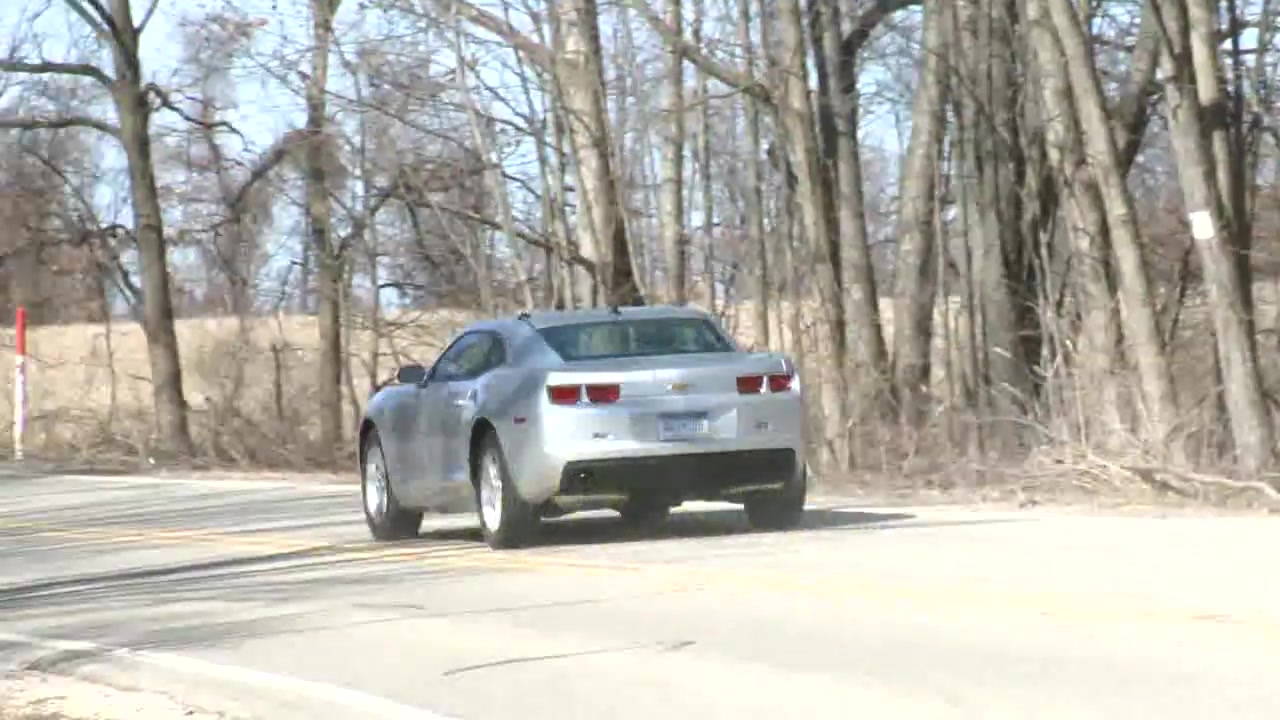car: (359, 312, 812, 551)
